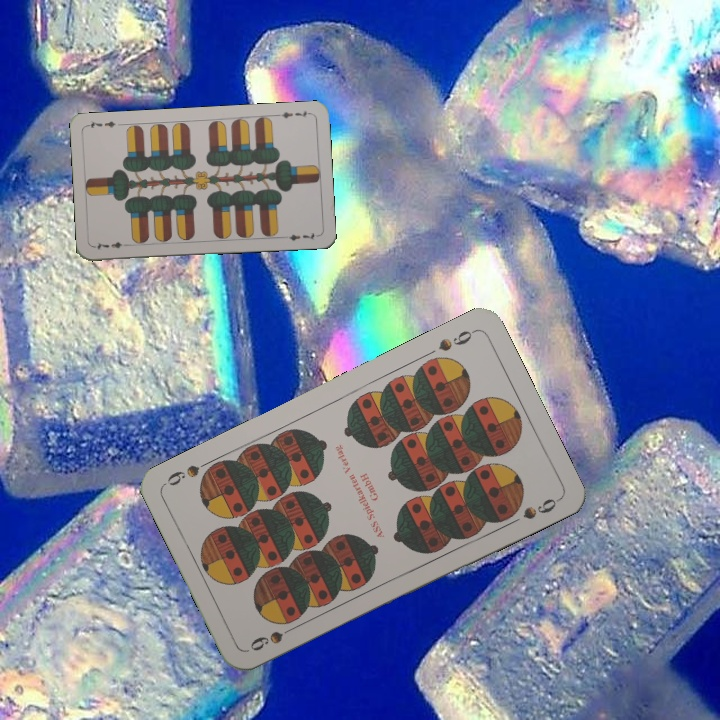E7: (91, 238, 131, 252), (273, 107, 313, 121)
S9: (245, 621, 301, 654), (434, 325, 478, 354)
